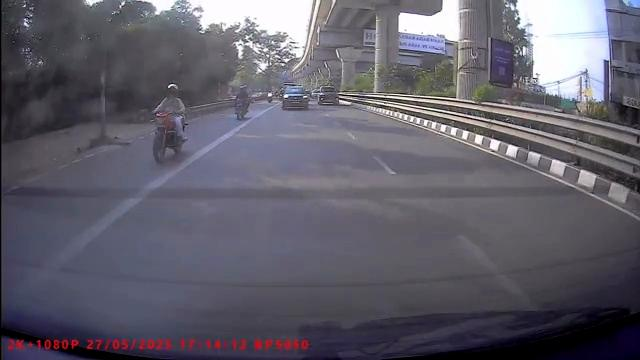motorcycle_with_helmet: (149, 81, 190, 165), (233, 83, 251, 121)
